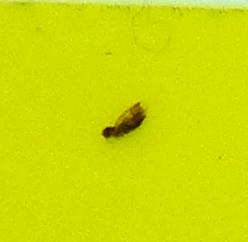Brachycera: (100, 100, 148, 142)
